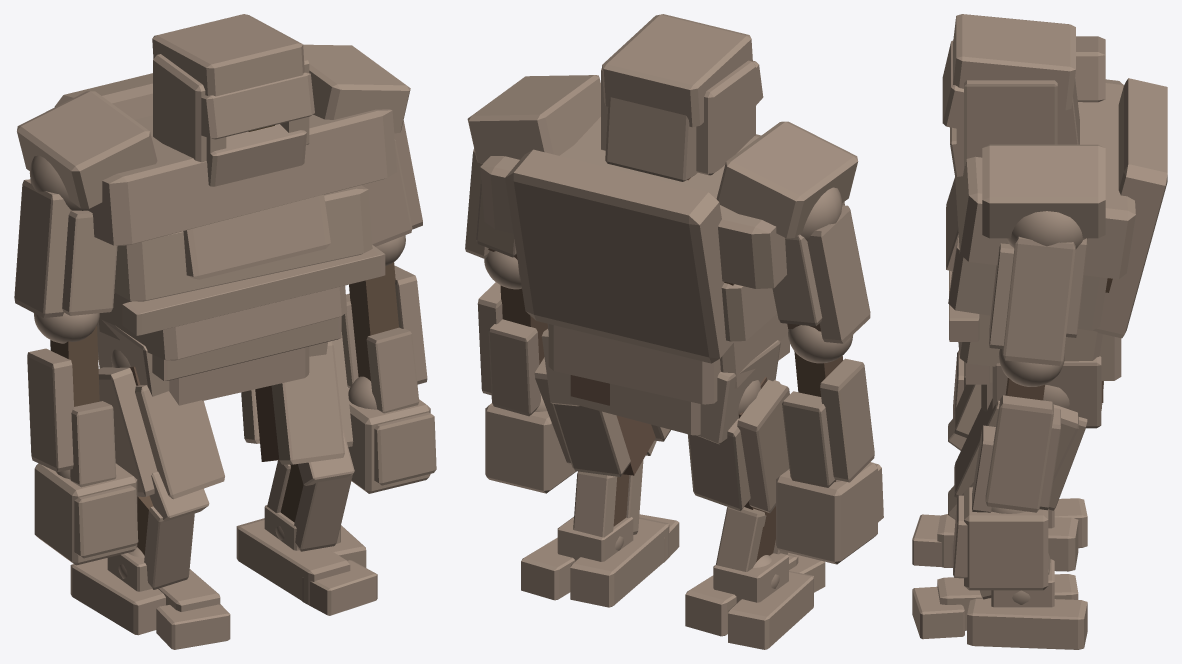
File: golem.fbx
The picture shows the model from 3 angles, left to right: view 1: azimuth 30°, elevation 25°; view 2: azimuth 150°, elevation 25°; view 3: azimuth 270°, elevation 25°; orthographic projection.
Parts seen in each view (by area): view 1: torso_plates, head_plates, thigh_R_plates, upperarm_R_plates, pelvis_plates, forearm_R_plates, foot_R_plates, thigh_L_plates, foot_L_plates, fist_R_plates, fist_L_plates, forearm_L_plates (+8 smaller); view 2: torso_plates, head_plates, pelvis_plates, forearm_R_plates, upperarm_R_plates, foot_L_plates, foot_R_plates, thigh_R_plates, fist_R_plates, forearm_L_plates, fist_L_plates, thigh_L_plates (+9 smaller); view 3: torso_plates, head_plates, upperarm_L_plates, foot_L_plates, forearm_L_plates, fist_L_plates, pelvis_plates, foot_R_plates, thigh_L_plates, thigh_R_plates, core_forearm_L, fist_R_plates.
Boxes of the visible parts, <box> form: torso_plates: <box>17,44,410,360</box>; head_plates: <box>152,14,314,186</box>; thigh_R_plates: <box>98,349,224,521</box>; upperarm_R_plates: <box>14,155,117,317</box>; pelvis_plates: <box>97,316,341,405</box>; forearm_R_plates: <box>27,312,116,487</box>; foot_R_plates: <box>70,547,230,649</box>; thigh_L_plates: <box>241,332,354,485</box>; foot_L_plates: <box>236,505,377,615</box>; fist_R_plates: <box>34,463,138,565</box>; fist_L_plates: <box>347,376,436,493</box>; forearm_L_plates: <box>341,235,427,413</box>; torso_plates: <box>467,75,858,388</box>; head_plates: <box>601,14,763,181</box>; pelvis_plates: <box>542,324,789,444</box>; forearm_R_plates: <box>782,325,874,487</box>; upperarm_R_plates: <box>772,187,870,343</box>; foot_L_plates: <box>521,514,679,607</box>; foot_R_plates: <box>685,552,825,649</box>; thigh_R_plates: <box>687,379,789,512</box>; fist_R_plates: <box>776,462,883,564</box>; forearm_L_plates: <box>477,250,540,416</box>; fist_L_plates: <box>485,394,576,493</box>; thigh_L_plates: <box>534,357,670,476</box>; torso_plates: <box>946,36,1167,366</box>; head_plates: <box>942,14,1079,176</box>; upperarm_L_plates: <box>989,211,1087,365</box>; foot_L_plates: <box>912,559,1087,649</box>; forearm_L_plates: <box>972,349,1064,512</box>; fist_L_plates: <box>953,487,1048,590</box>; pelvis_plates: <box>965,334,1121,428</box>; foot_R_plates: <box>912,498,1087,571</box>; thigh_L_plates: <box>948,385,1087,519</box>; thigh_R_plates: <box>948,384,981,450</box>; core_forearm_L: <box>1005,378,1044,400</box>; fist_R_plates: <box>953,350,965,417</box>.
Size of the model in its own units: 2.91 by 4.07 by 1.7.
